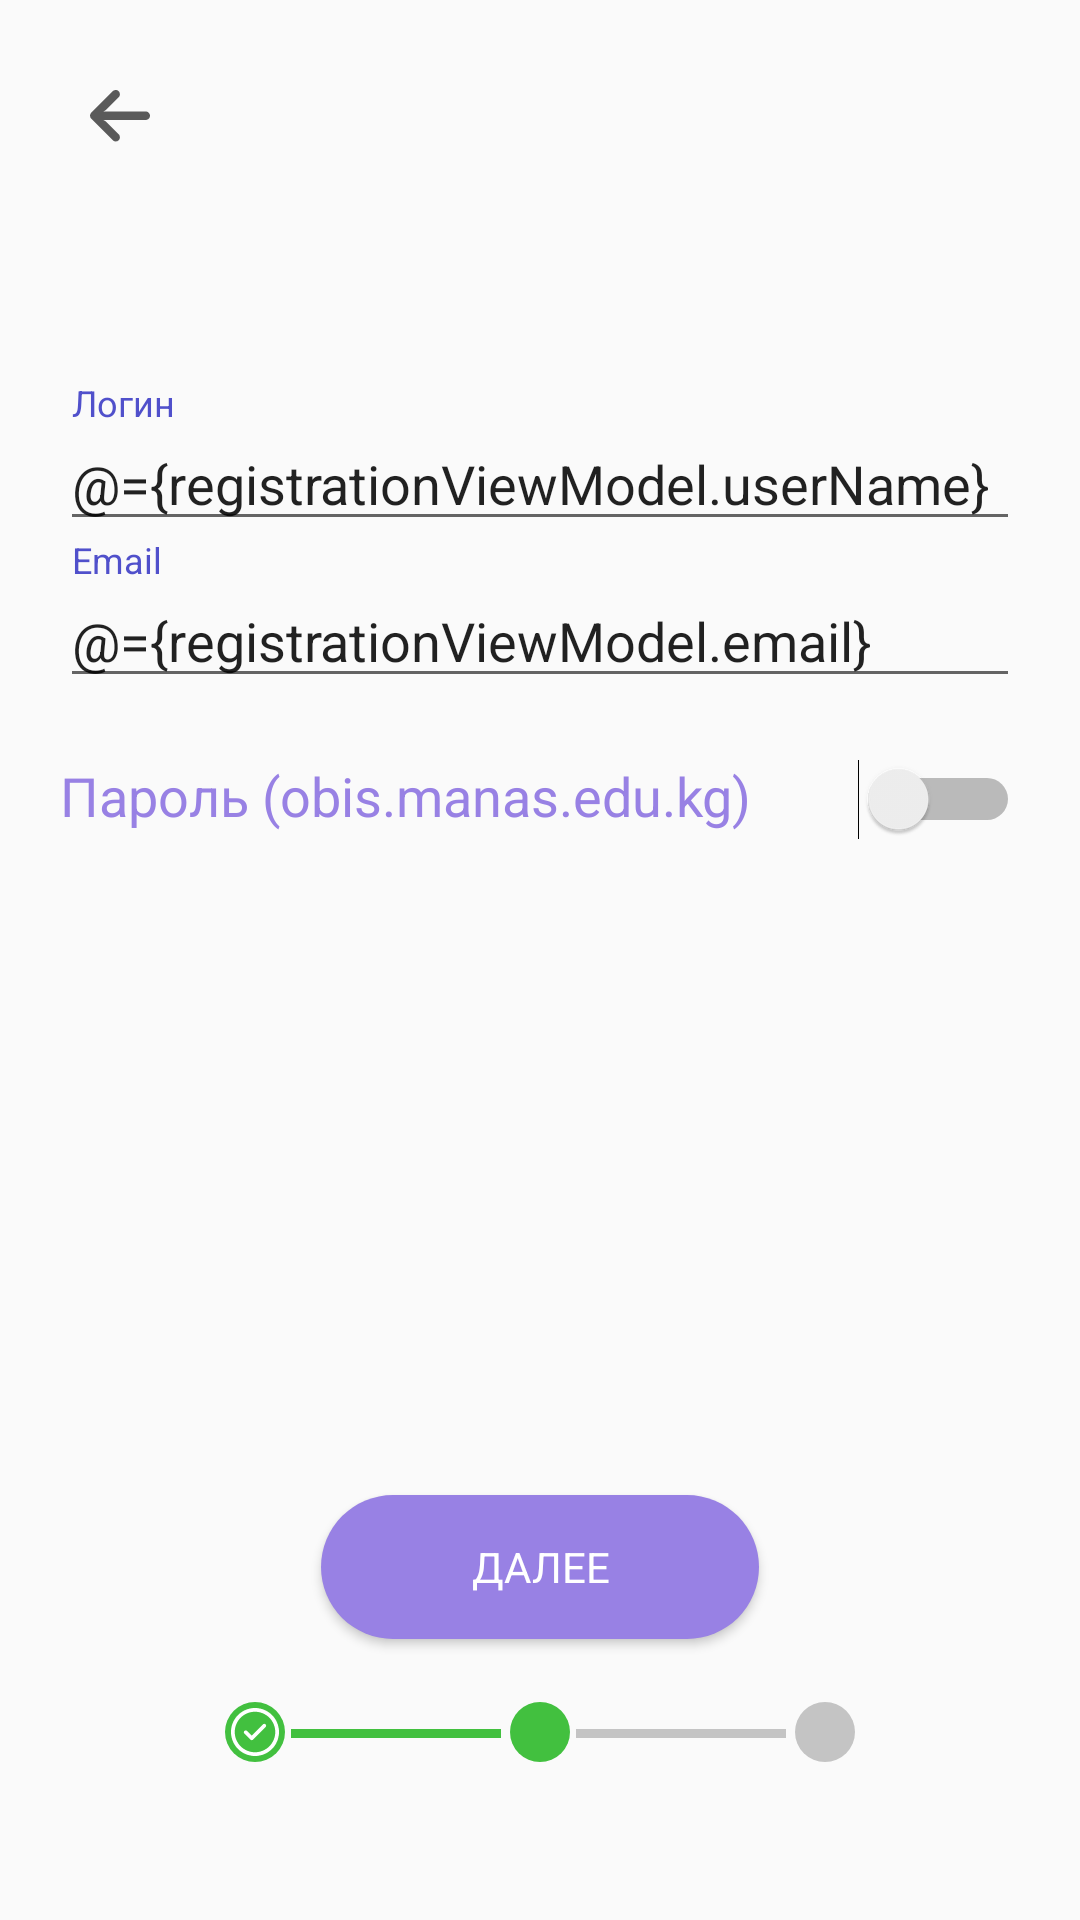

Icon bounding boxes for this 1080 x 1920 phone screenshot, format (x1, y1, x2, y2):
back: (90, 90, 150, 142)
